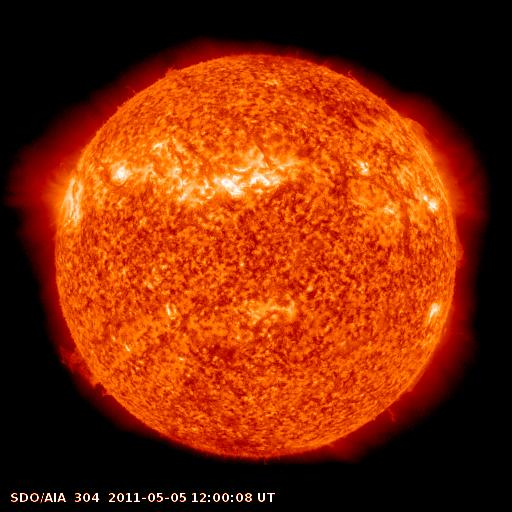prominence: (50, 332, 123, 402), (393, 107, 446, 170), (443, 223, 477, 273), (374, 393, 406, 434)
